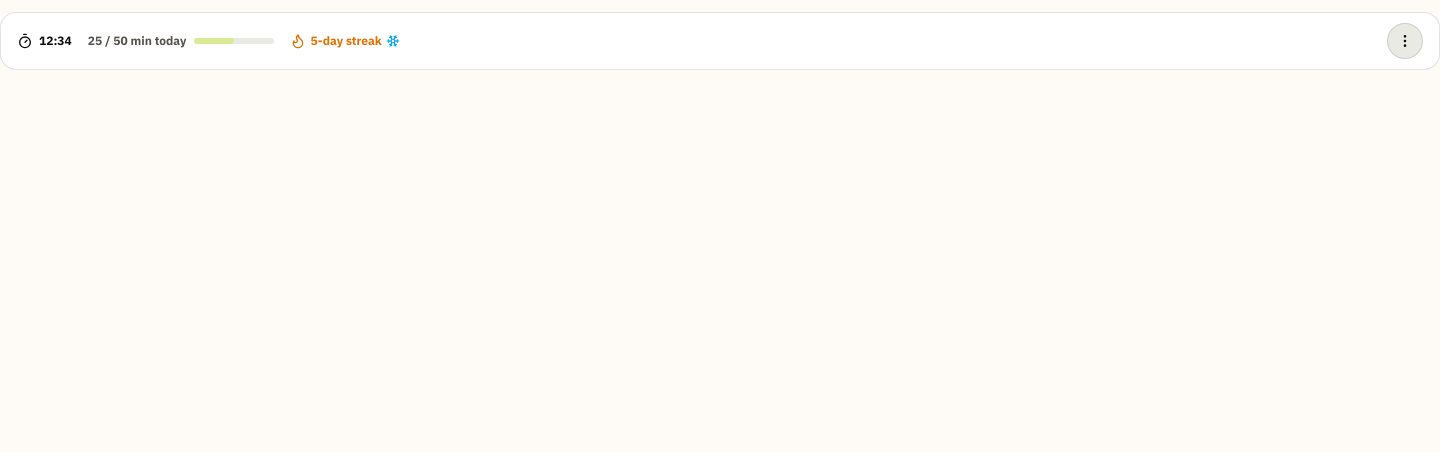
Test case: focus timer › opens from the menu with the classic 25 minute focus block, ready to start
The width and height of the screenshot is (1440, 452).
Click the button named "Study session options": (1405, 41) x1=1387 y1=23 x2=1423 y2=59
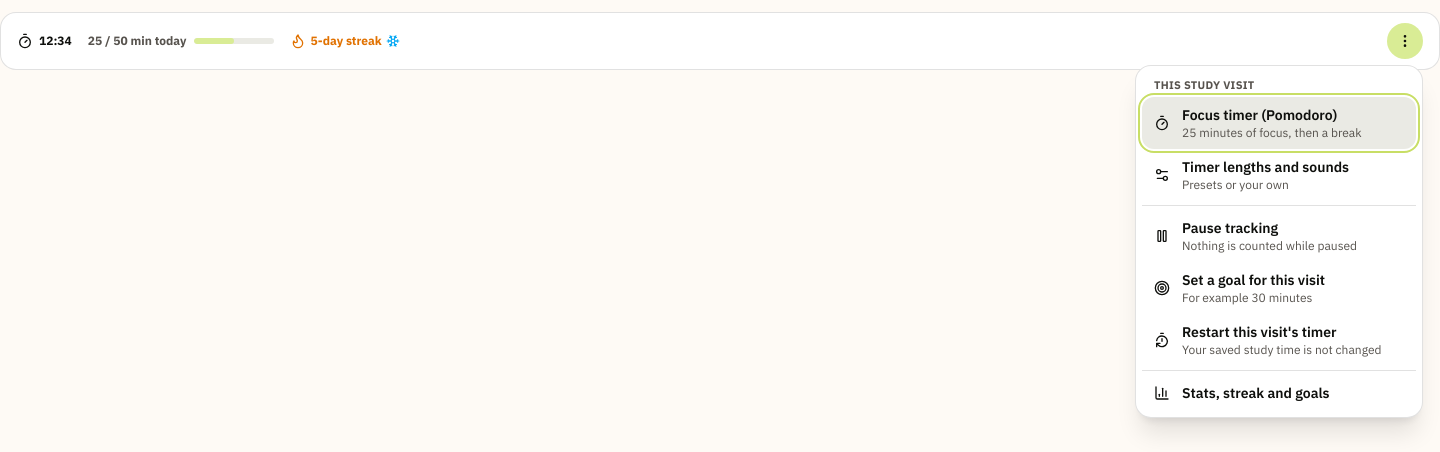
Click the menu item "Focus timer (Pomodoro) 25 minutes of focus, then a break": (1279, 123) x1=1142 y1=97 x2=1416 y2=149
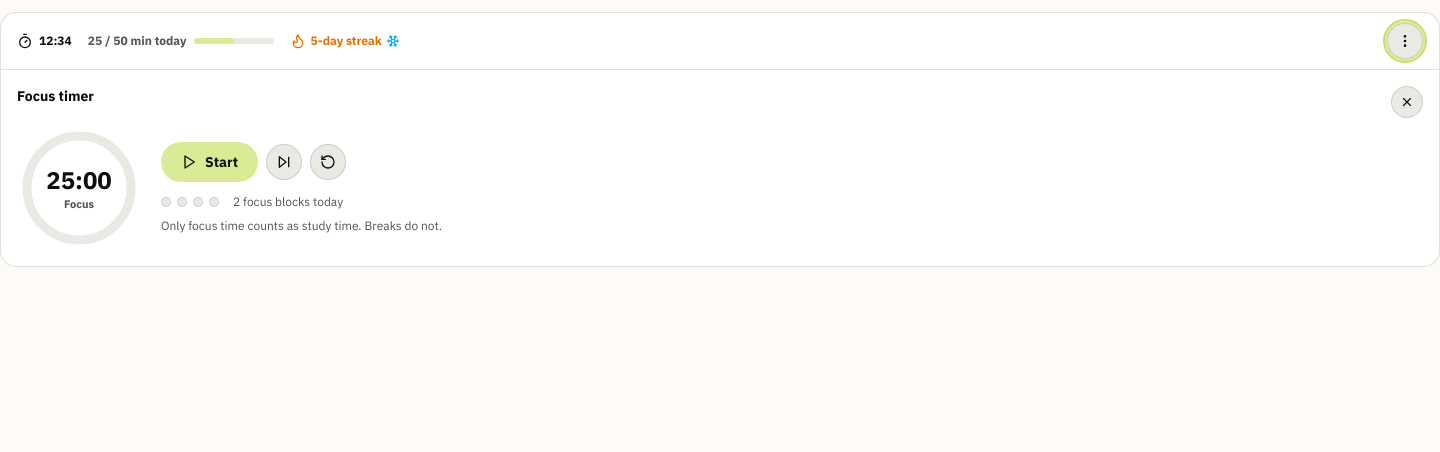
expect the text "Focus" is shown: met, box x1=17 y1=87 x2=94 y2=105
expect the element named "Focus timer" is shown: met, box x1=1 y1=69 x2=1439 y2=266
expect the text "2 focus blocks today" is shown: met, box x1=233 y1=194 x2=343 y2=210
